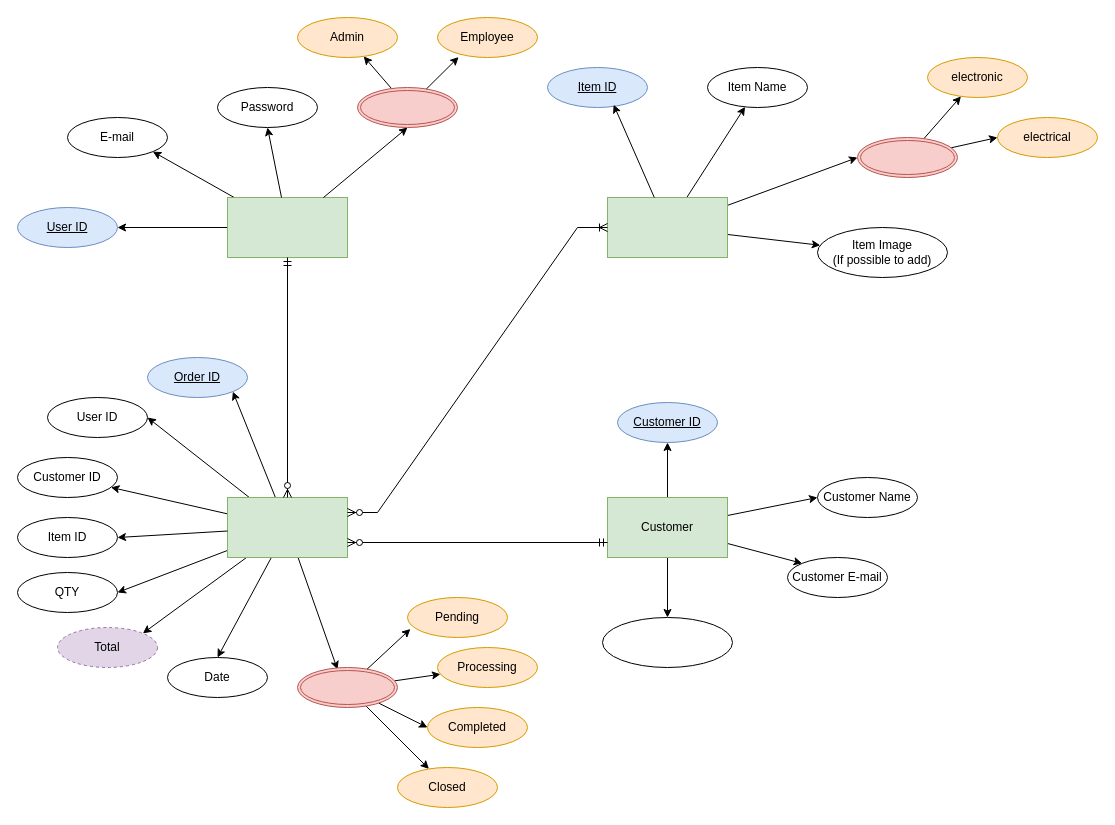
The diagram is 1115 pixels wide and 825 high, and some of its shapes have lost their labels. Here are the shapes that lost their labels. From the top down, the centre of each, then its label:
At point (407, 107): "User Type".
At point (907, 157): "Item Category".
At point (287, 227): "Users".
At point (667, 227): "Items".
At point (287, 527): "Order".
At point (667, 642): "Customer Contact number".
At point (347, 687): "Order Status".
